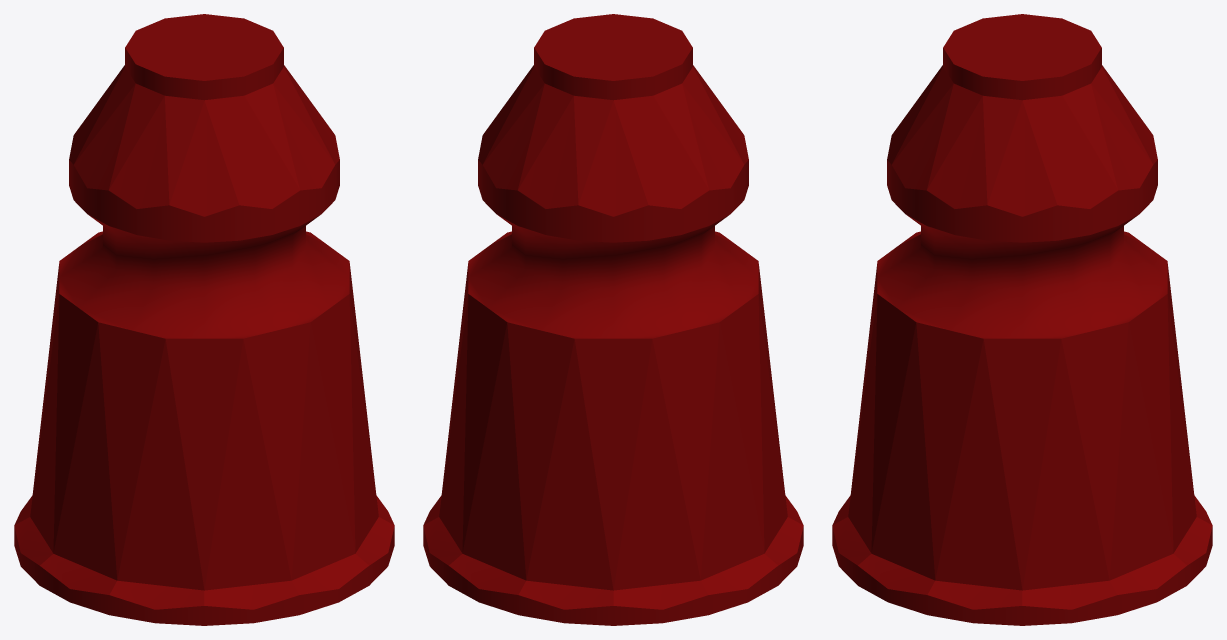
File: PegPlasticT14.fbx
3 renders of one model, left to right at view 1: azimuth 30°, elevation 25°; view 2: azimuth 150°, elevation 25°; view 3: azimuth 270°, elevation 25°, orthographic.
Visible parts, largest first — view 1: PegPlasticT14; view 2: PegPlasticT14; view 3: PegPlasticT14.
Part boxes in pixels (x1,y1,x2,y2): PegPlasticT14: (14, 14, 394, 625); PegPlasticT14: (423, 14, 803, 625); PegPlasticT14: (832, 14, 1212, 625).
Bounding box in the file's own units: 1.85 × 2.67 × 1.85.
